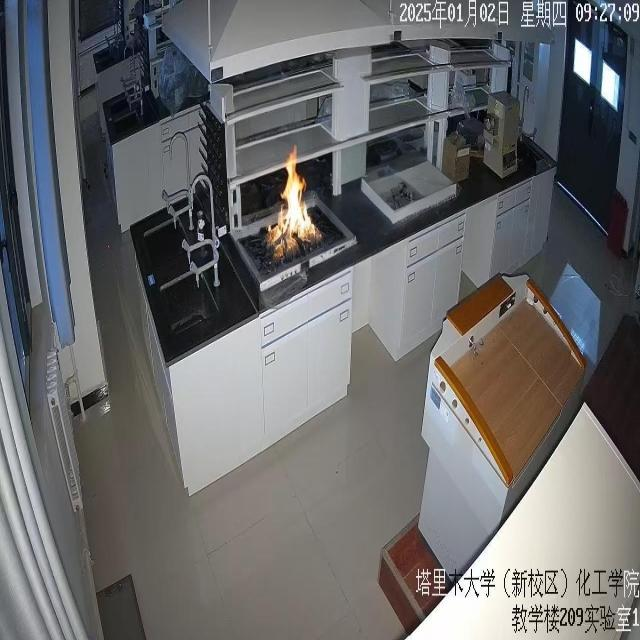fire: (266, 148, 330, 289)
